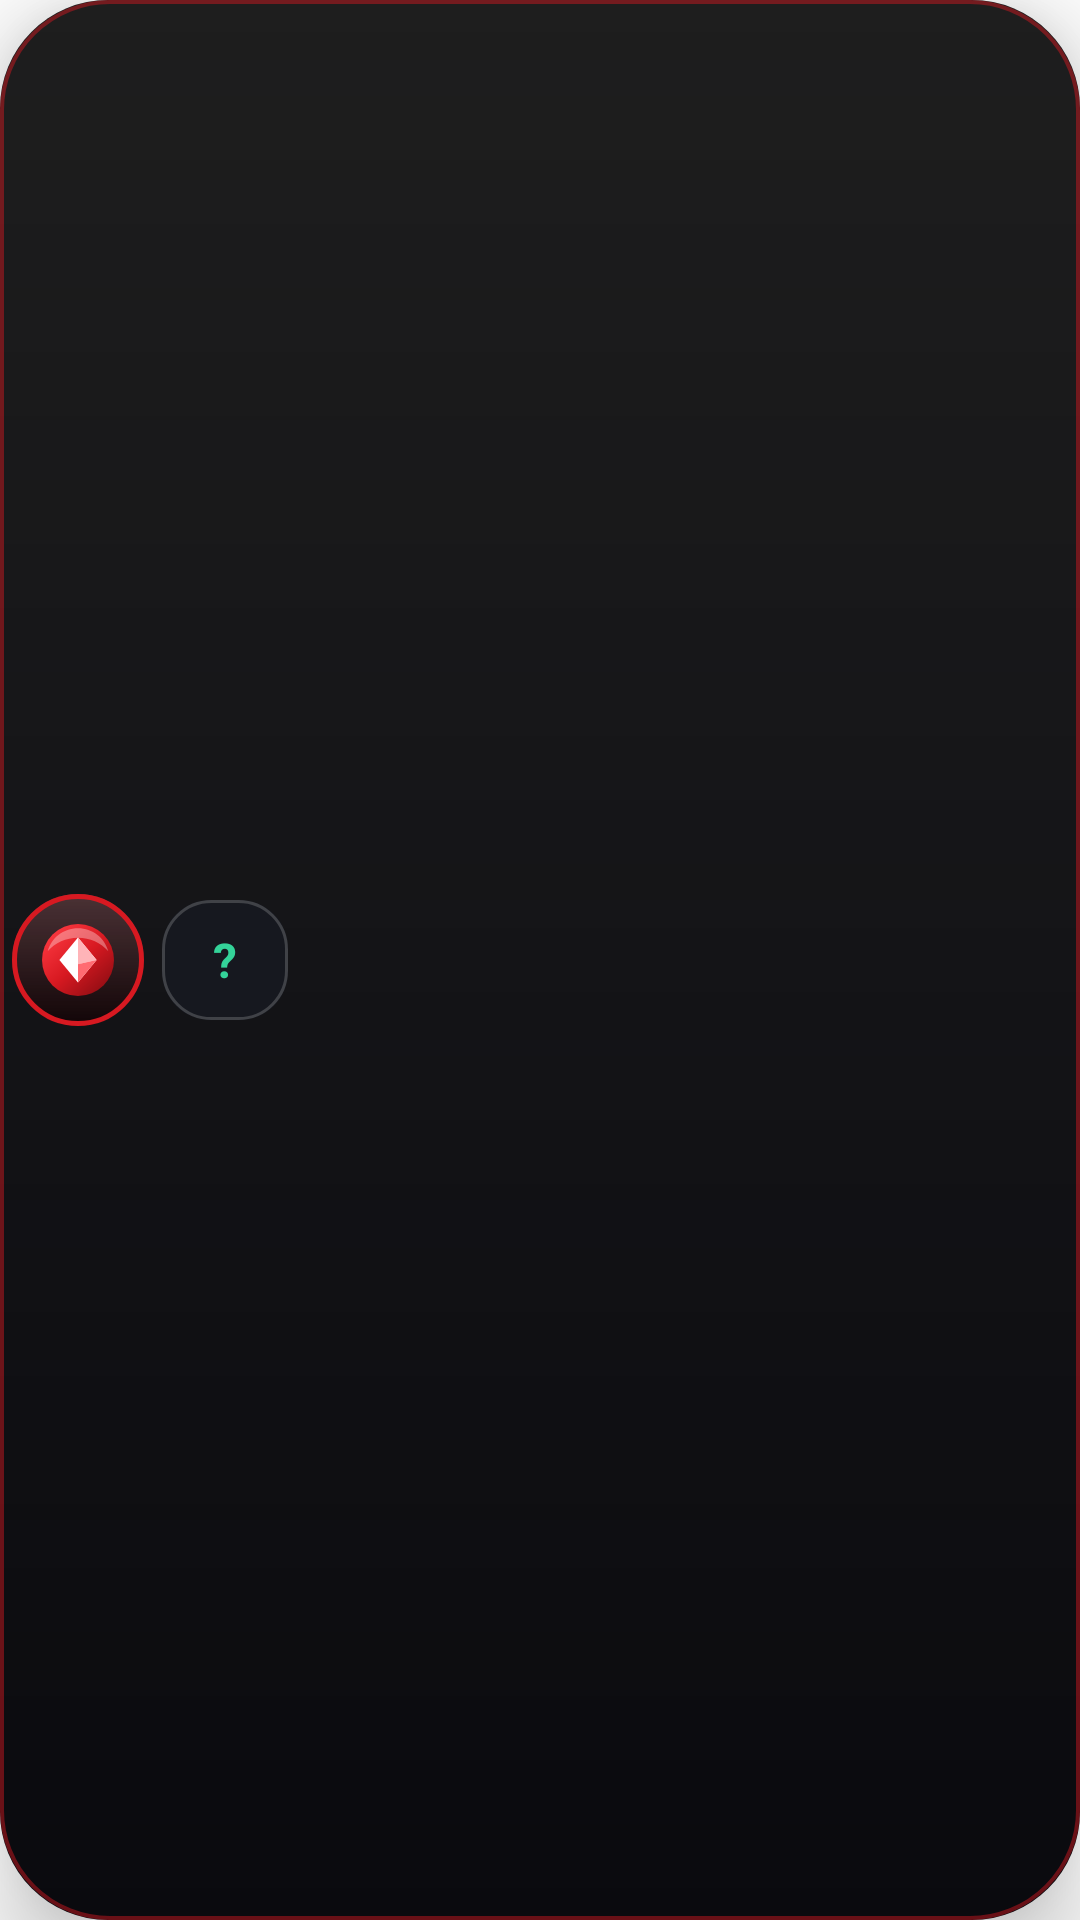

Named icons in this screenshot (1080px x 1920px) and their centers, (x=x, y=y):
prism orb: (x=78, y=960)
